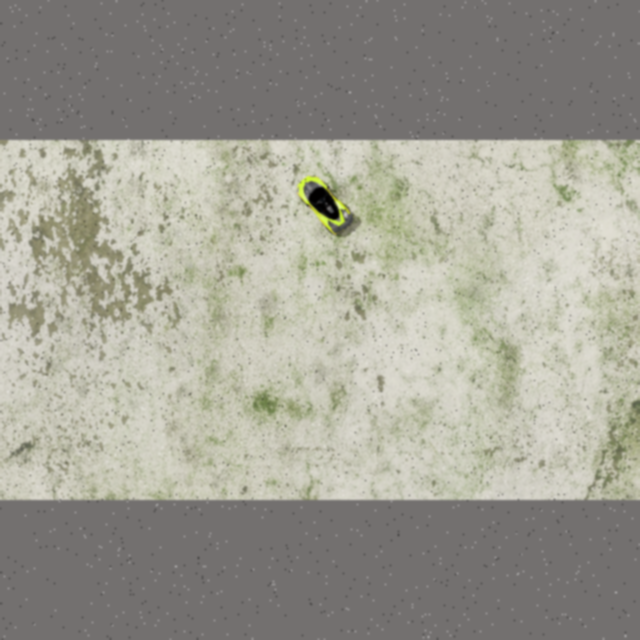car: (289, 167, 357, 240)
